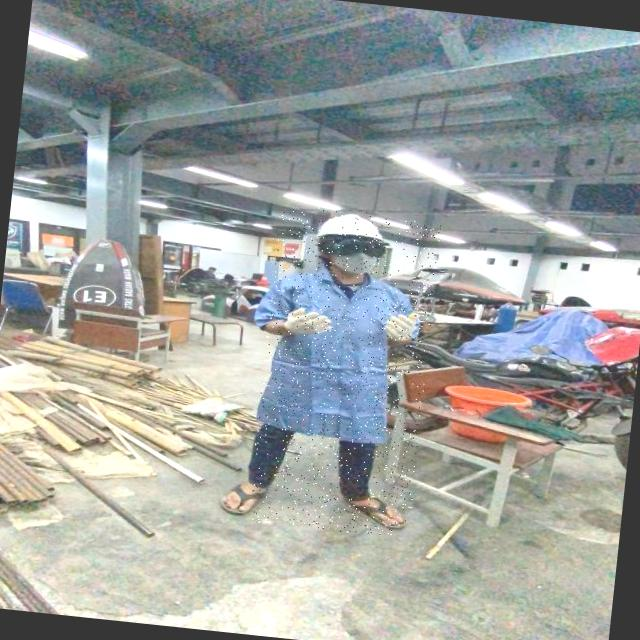gloves: (379, 292, 424, 362), (278, 292, 326, 354)
helmet: (312, 206, 390, 247)
no-boots: (333, 470, 420, 537), (210, 463, 274, 525)
no-vest: (260, 256, 406, 454)
